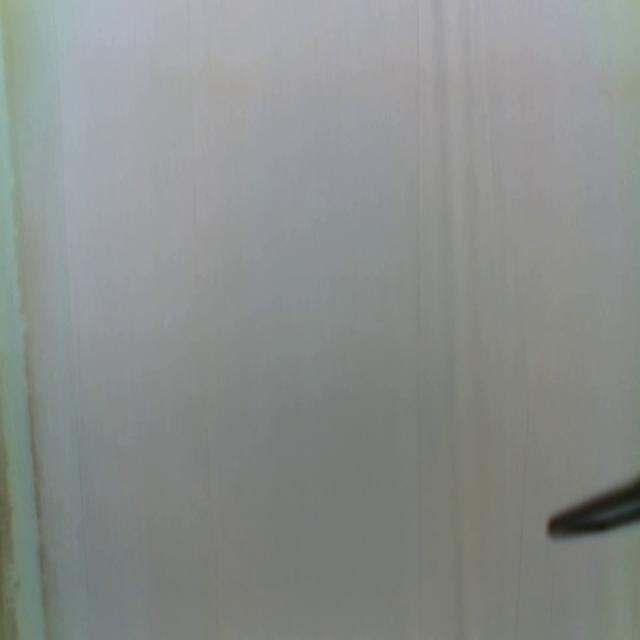color bleeding: (0, 0, 58, 639)
crease: (64, 190, 92, 592), (414, 0, 426, 640), (512, 409, 532, 640), (184, 0, 197, 239)
